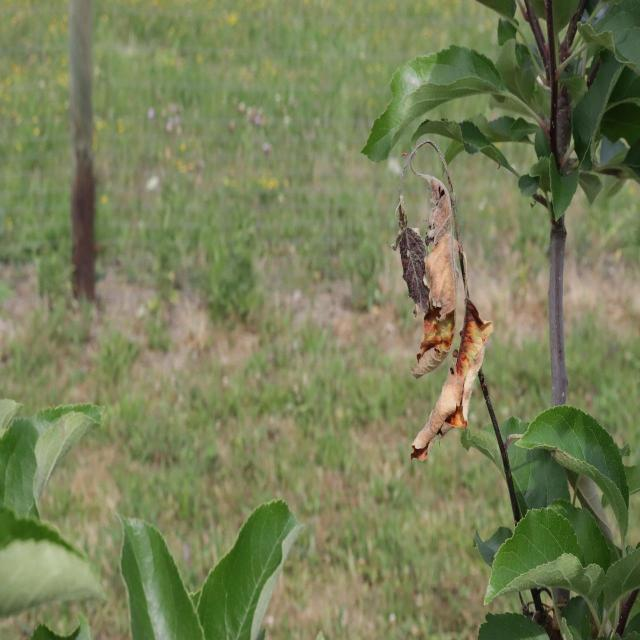-FireBlight-: (381, 137, 497, 467)
